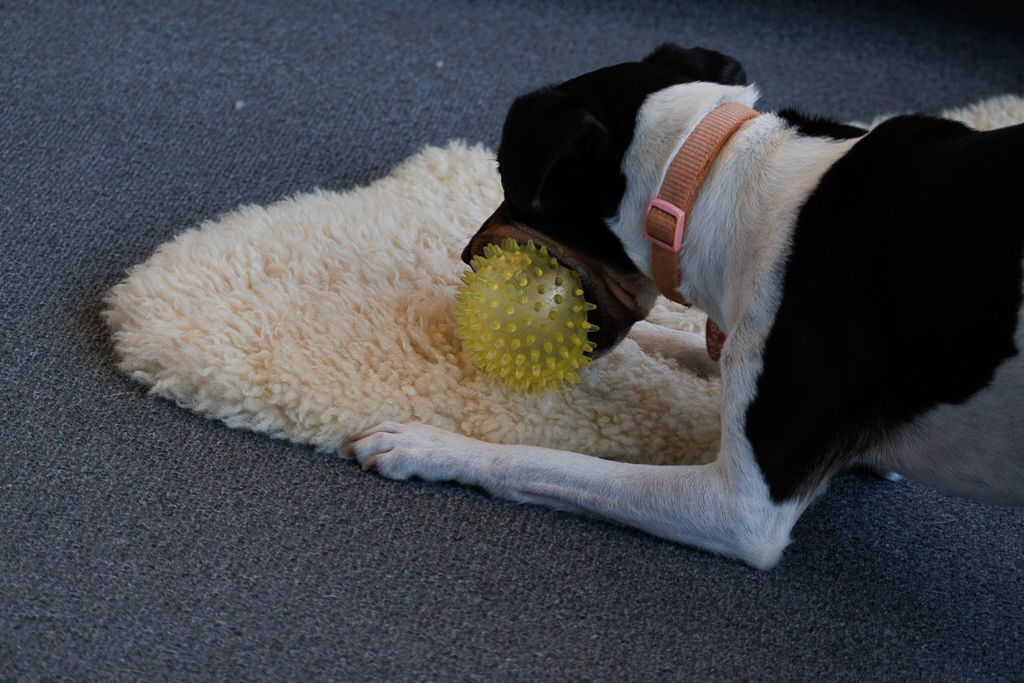Dog: (329, 30, 1024, 580)
